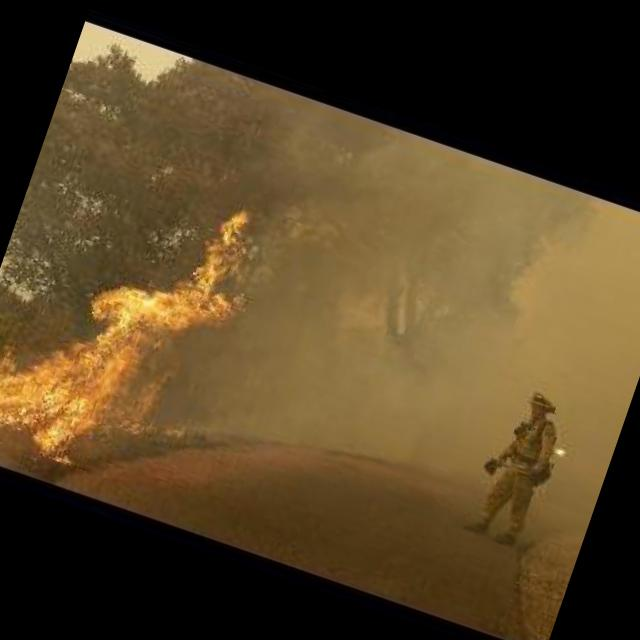fire: (0, 131, 280, 471)
